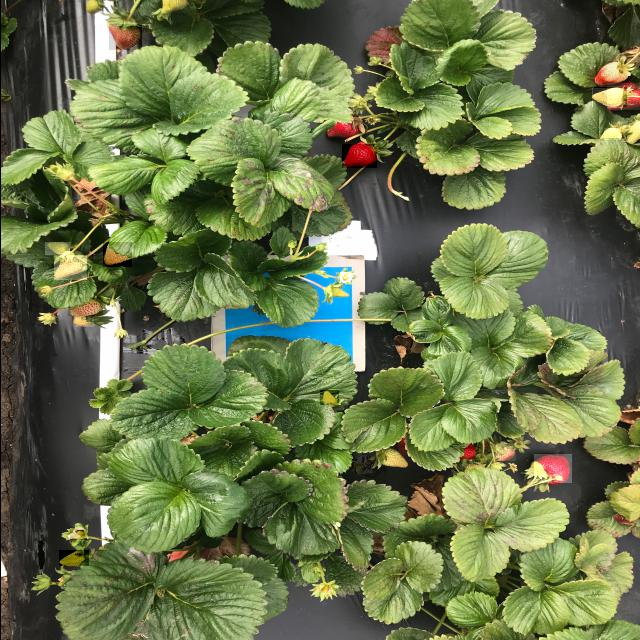Flower: (68, 528, 86, 542), (338, 272, 350, 284)
Green Strawberry: (107, 24, 141, 51), (52, 255, 86, 281), (101, 242, 131, 268), (374, 448, 410, 468), (66, 297, 102, 317), (592, 87, 626, 107), (590, 88, 622, 108), (57, 550, 88, 567), (160, 0, 190, 14), (42, 242, 68, 256), (318, 390, 338, 406), (324, 286, 349, 298), (82, 0, 102, 15), (71, 317, 93, 328), (602, 128, 620, 141)
Red Strawberry: (532, 454, 571, 484), (605, 83, 639, 112), (340, 144, 376, 169), (326, 115, 362, 139), (594, 61, 628, 86), (494, 443, 515, 462), (458, 443, 478, 460)
